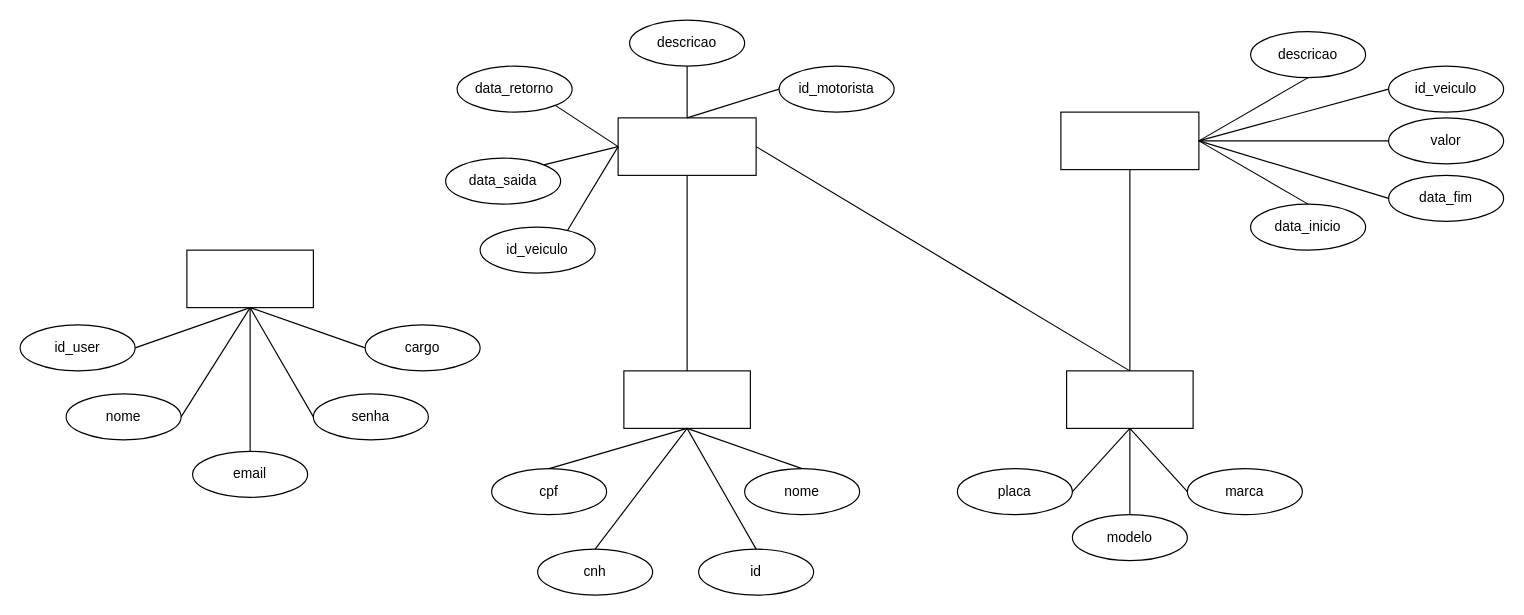
The diagram is 1524 pixels wide and 615 high, and some of its shapes have lost their labels. The centre of each missing label's shape, as x and y in pixels:
frotas (veiculos): [1129,399]
manutencoes: [1129,140]
motorista: [686,399]
servicos: [686,146]
usuário: [249,278]
